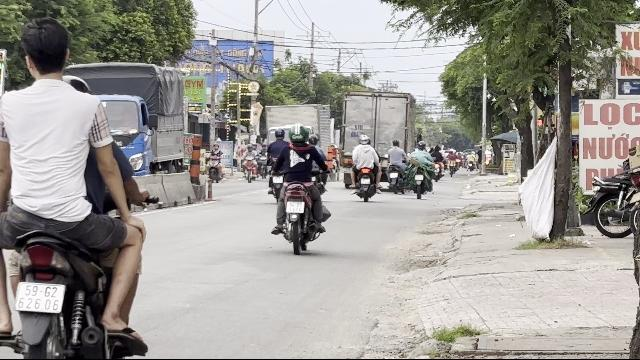helmet: (288, 124, 308, 146)
licenseplate: (15, 282, 64, 313), (286, 201, 304, 213)
motorcyclist: (0, 19, 156, 356), (268, 124, 332, 253)
nohelmet: (20, 17, 72, 80)
